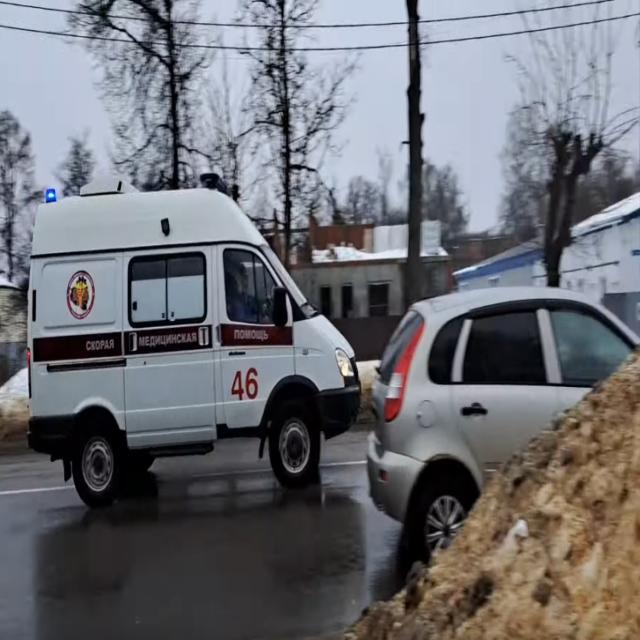non emergency car: (29, 177, 362, 508), (370, 286, 640, 566)
